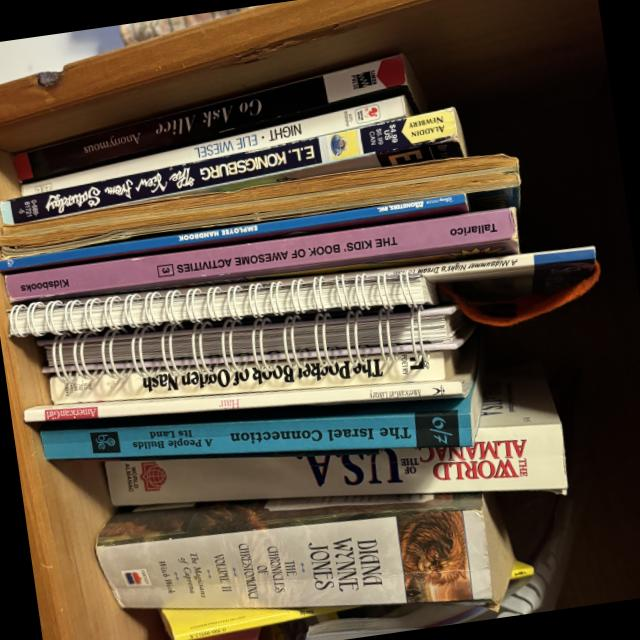book: (102, 369, 567, 507), (0, 107, 466, 226), (6, 52, 426, 183), (2, 207, 520, 308), (37, 372, 484, 472), (18, 94, 412, 203), (95, 509, 493, 615), (0, 193, 469, 275), (22, 369, 472, 425), (48, 349, 460, 407), (367, 246, 599, 315)
